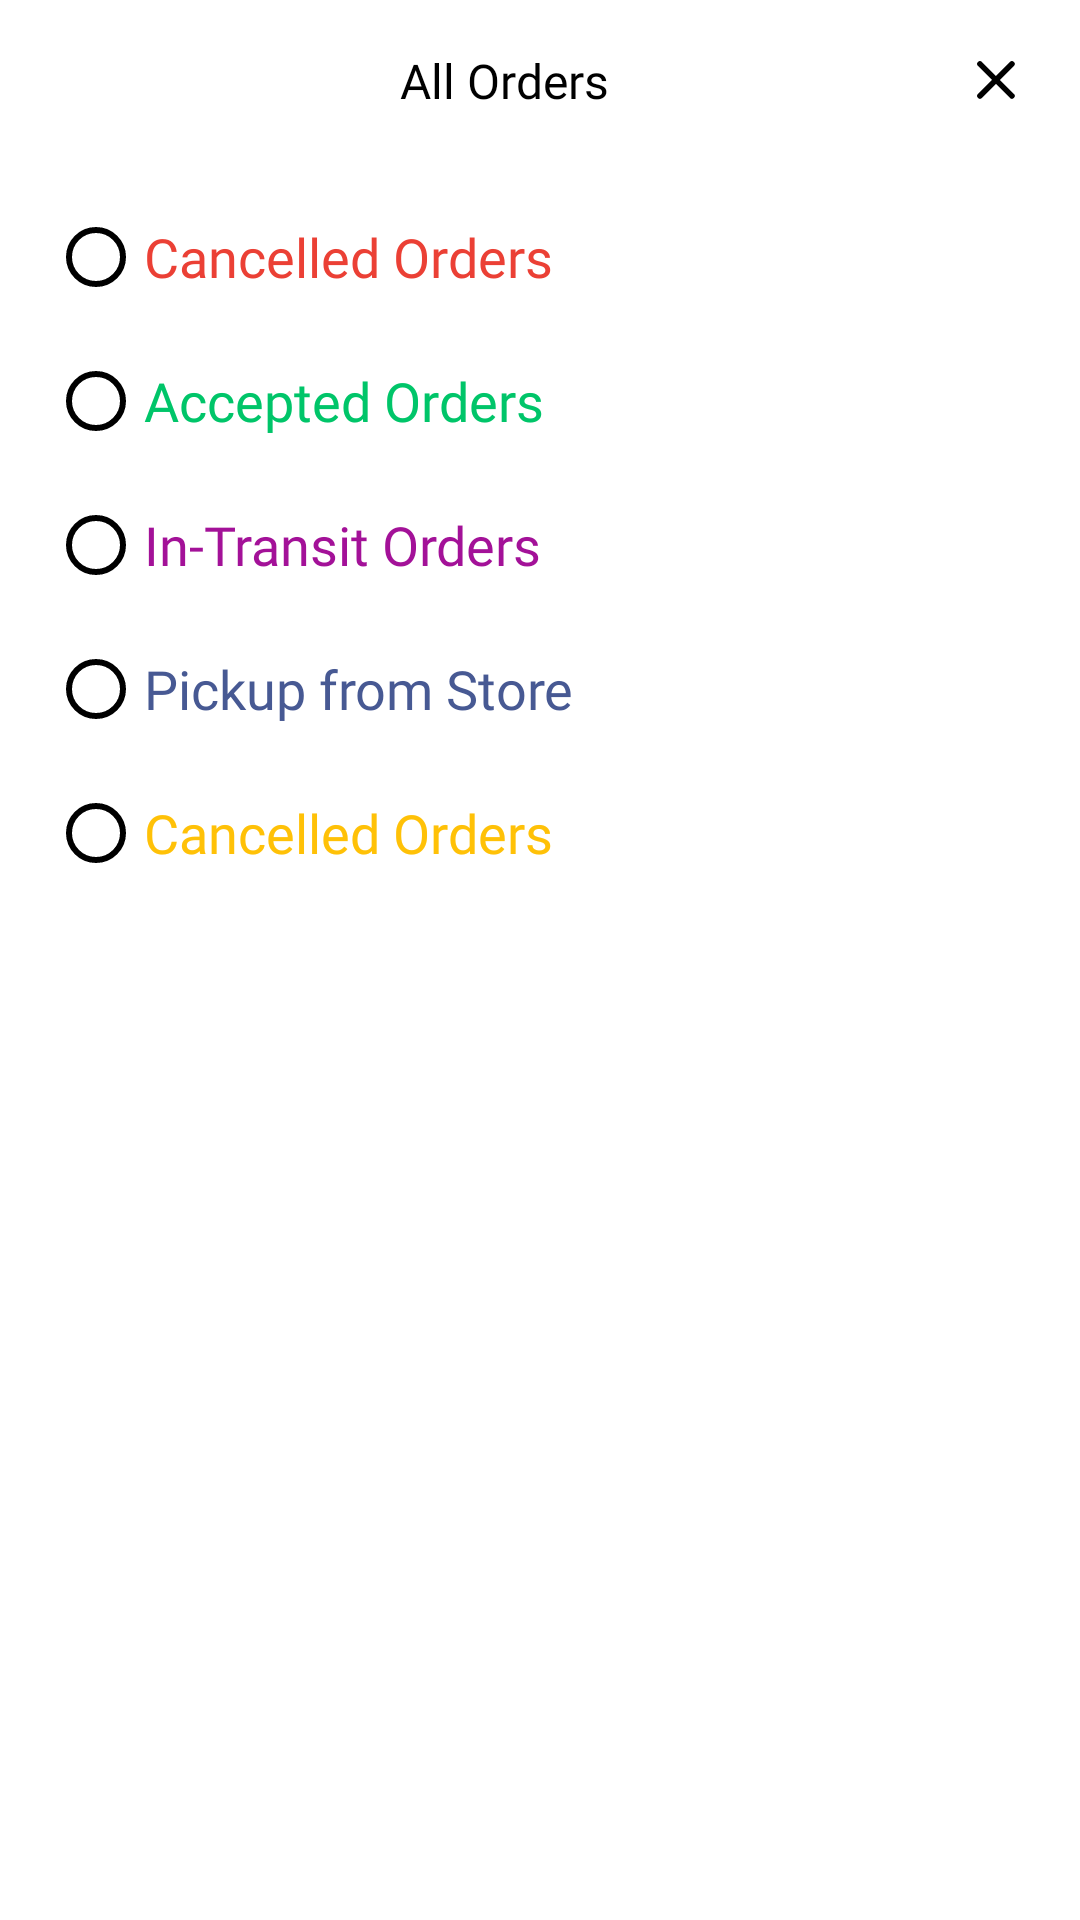

Icon bounding boxes for this 1080x1920 phone screenshot, format {"left": x1, "top": y1, "right": x2, "bottom": y2}:
close: {"left": 977, "top": 61, "right": 1015, "bottom": 99}
